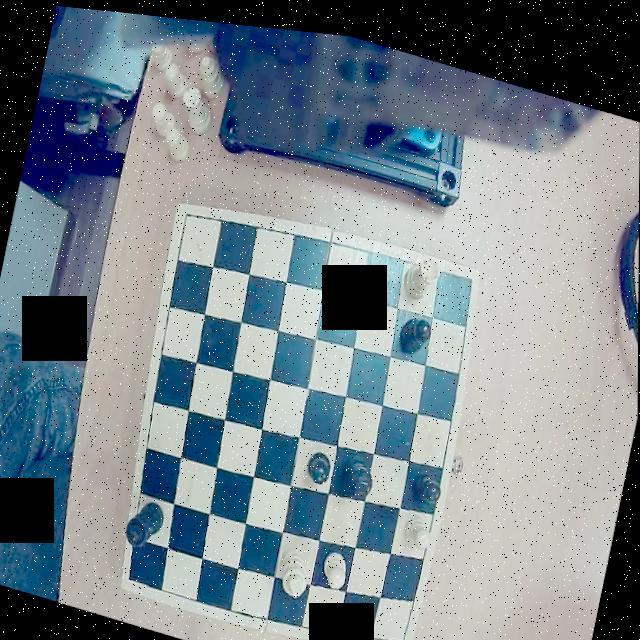chess-table-corners: (175, 200, 211, 236), (446, 257, 480, 291), (119, 556, 152, 590), (386, 614, 414, 640)
